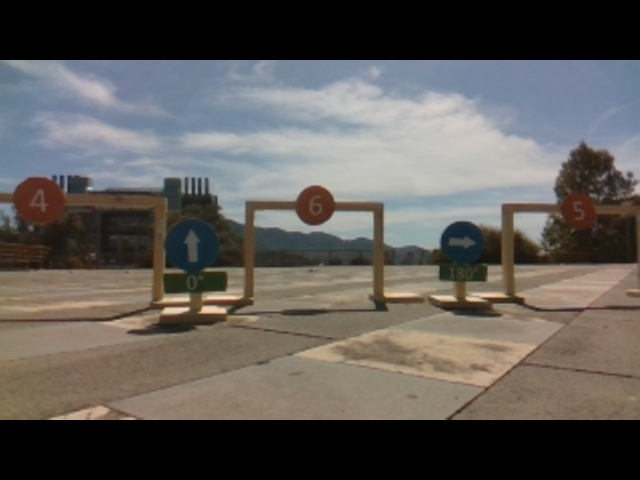0_degree: (165, 270, 228, 291)
180_degree: (438, 263, 489, 280)
arrow_right: (436, 219, 485, 263)
arrow_up: (164, 219, 222, 271)
checkpoint_foot: (205, 282, 254, 306), (367, 287, 425, 304), (148, 290, 191, 308), (473, 290, 523, 302)
checkpoint_side: (150, 191, 168, 299), (241, 199, 260, 297), (370, 200, 390, 292), (499, 200, 517, 292)
checkpoint_signal: (2, 189, 174, 212), (497, 200, 640, 217), (240, 197, 390, 213)
five: (562, 193, 596, 228)
four: (12, 175, 65, 223)
six: (294, 180, 338, 226)
